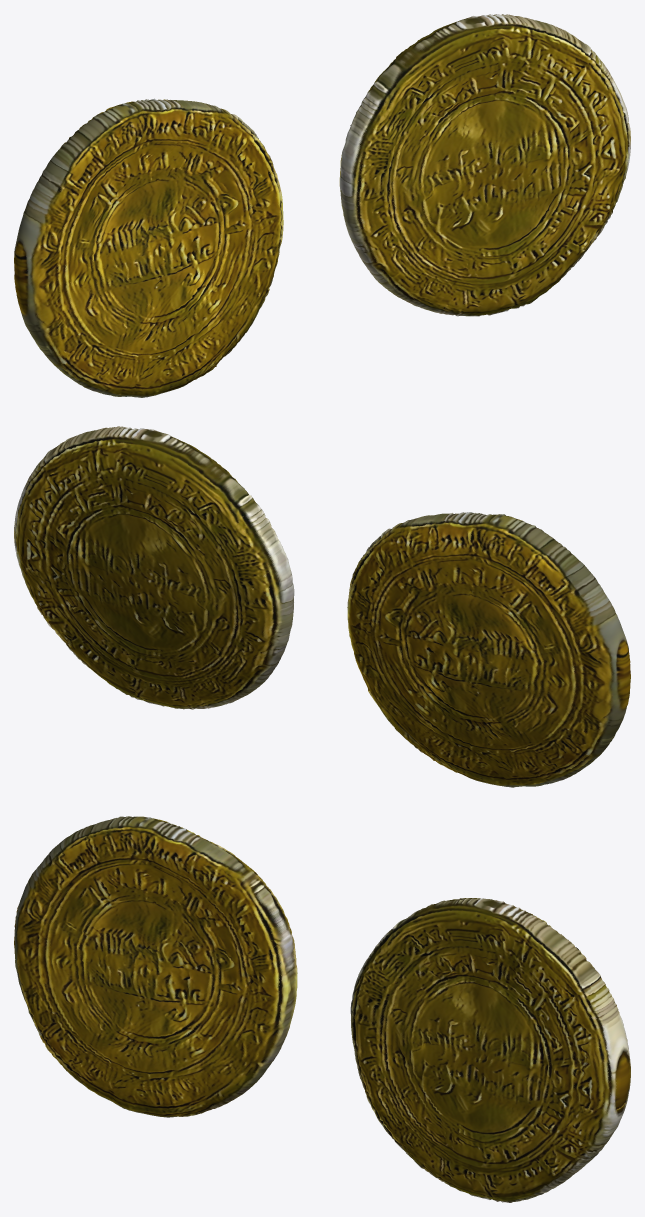
Rendered from kfl-2150.glb.
The picture shows the model from 3 angles, top to bottom: view 1: azimuth 30°, elevation 25°; view 2: azimuth 150°, elevation 25°; view 3: azimuth 330°, elevation 25°; orthographic projection.
Parts seen in each view (by area): view 1: kfl-2150; view 2: kfl-2150; view 3: kfl-2150.
Boxes of the visible parts, x1=… form: kfl-2150: x1=14, y1=14, x2=630, y2=397; kfl-2150: x1=14, y1=426, x2=630, y2=787; kfl-2150: x1=14, y1=816, x2=630, y2=1202.
Bounding box in the file's own units: 0.9938 × 0.4395 × 0.1133.
1 material, 1 textured.
